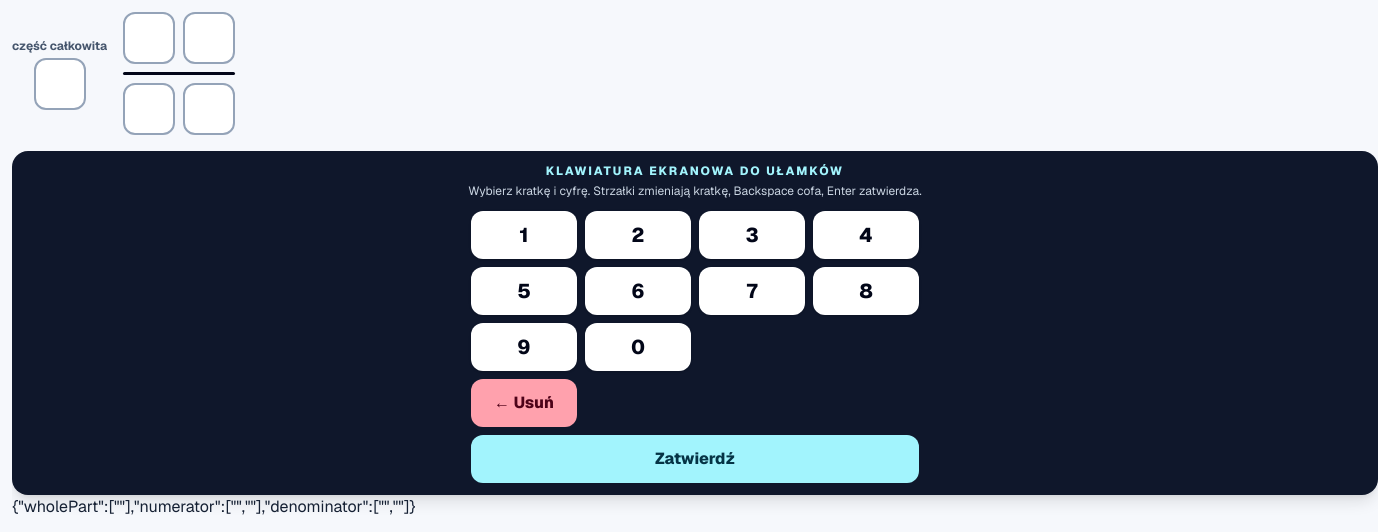
Test: FractionStackInput — klawiatura, dotyk i semantyka › w wieloetapowym działaniu wpisuje cyfrę dokładnie do wskazanej kratki bez automatycznego przeskoku
This screenshot has width=1378, height=532.
Step 1. Press the mouse on the field named "licznik, cyfra 2 z 2" → x=209, y=38, box [183,12,235,64]
Step 2. Click the button "6" → x=638, y=291, box [585,267,691,315]
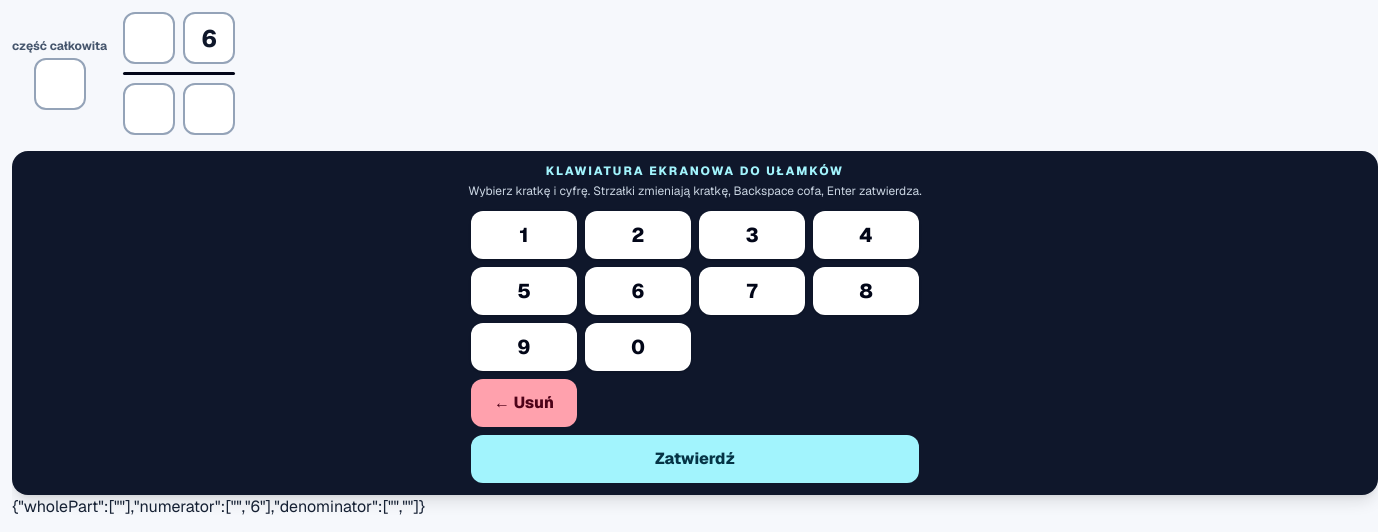
Check: the field named "licznik, cyfra 1 z 2" is empty, box [123,12,175,64]
Check: the field named "licznik, cyfra 2 z 2" holds "6", box [183,12,235,64]
